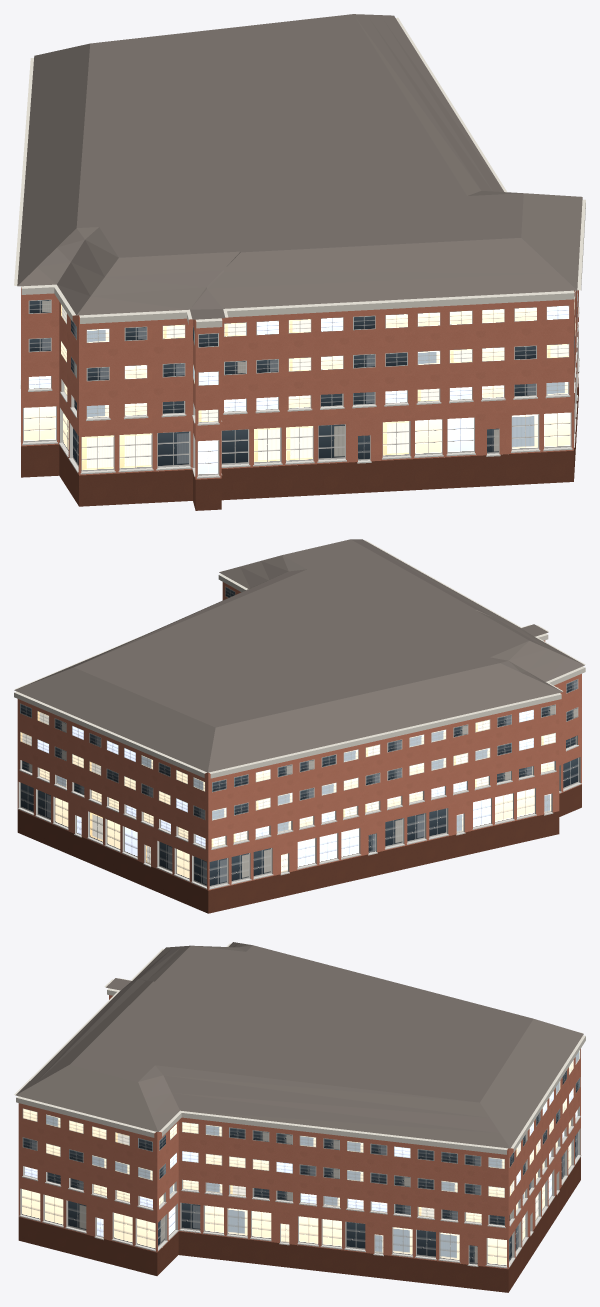
File: z5b_spirgarten.glb
3 views of the same model, one above another, from view 1: azimuth 30°, elevation 25°; view 2: azimuth 150°, elevation 25°; view 3: azimuth 270°, elevation 25° (orthographic). The views are drawn at different scales.
Parts seen in each view (by area): view 1: z5b_spirgarten; view 2: z5b_spirgarten; view 3: z5b_spirgarten.
Boxes of the visible parts, left/top/right/bottom form: z5b_spirgarten: left=14, top=14, right=585, bottom=510; z5b_spirgarten: left=14, top=539, right=585, bottom=913; z5b_spirgarten: left=14, top=942, right=585, bottom=1292.
Size of the model in its own units: 56.7 by 21.55 by 66.03.
3 materials, 3 textured.
